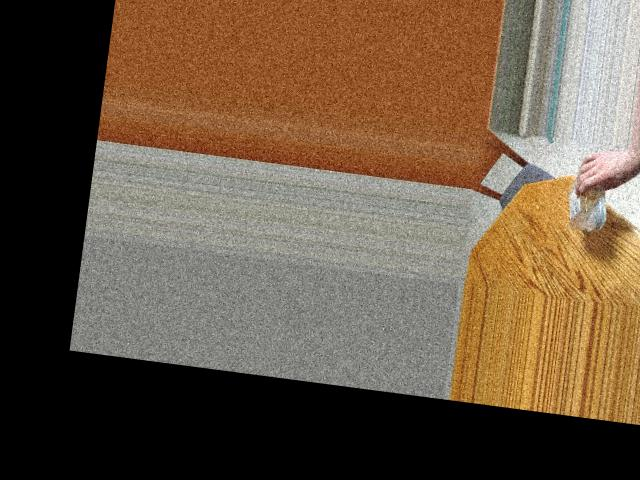cheese: (562, 161, 618, 225)
